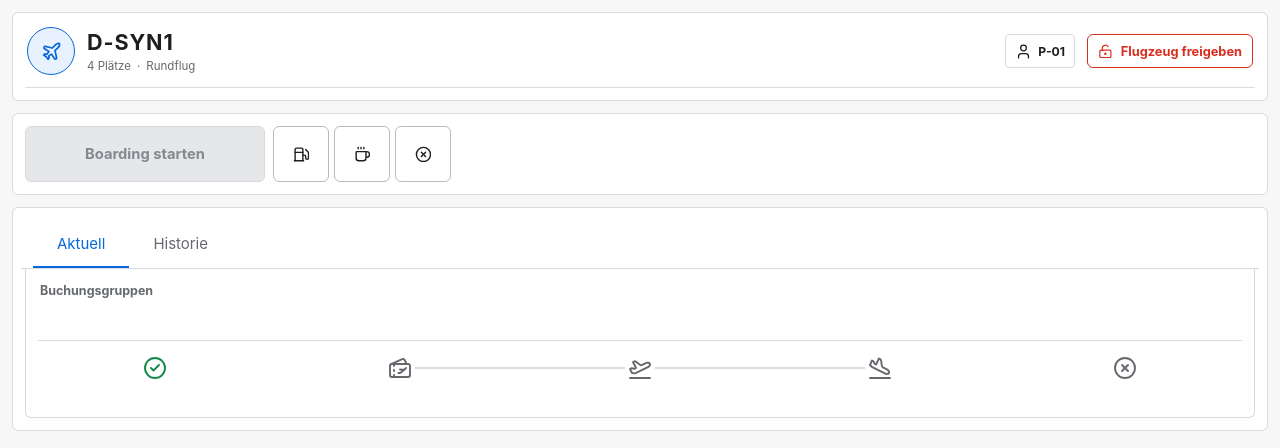
flight line assist workflow › releases the server claim and returns to aircraft selection
What coordinates should you click on to do the following:
click the button "Flugzeug freigeben"
I would click on:
 (1170, 51)
Its box is 1087,34 -> 1253,68.
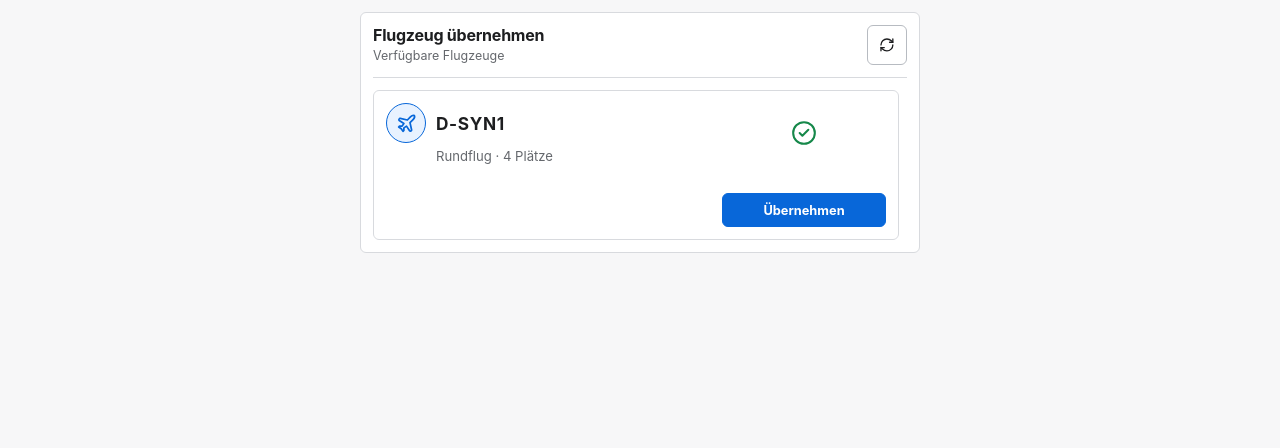
expect the heading "Flugzeug übernehmen" is shown: met, box 373,25 -> 544,45
